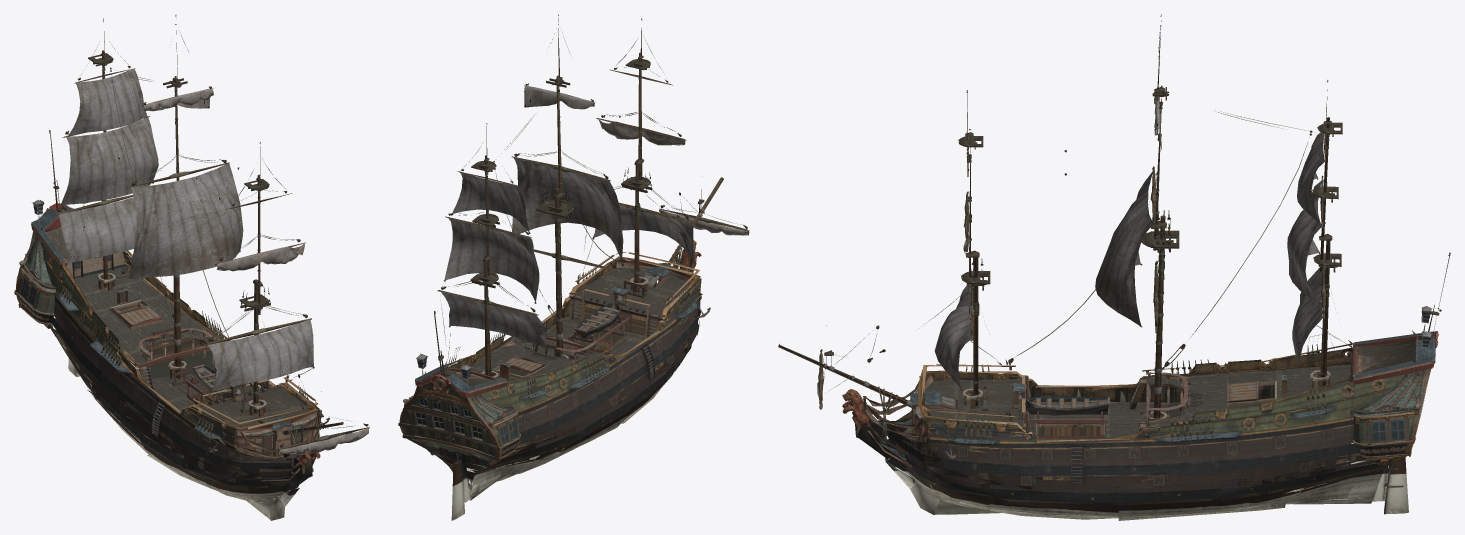
File: ship_pinnace.glb
The picture shows the model from 3 angles, left to right: view 1: azimuth 30°, elevation 25°; view 2: azimuth 150°, elevation 25°; view 3: azimuth 270°, elevation 25°; orthographic projection. The views are drawn at different scales.
Visible parts, largest first — view 1: ship_pinnace_sails, ship_pinnace_hull, ship_pinnace_deck, ship_pinnace_rigging, ship_pinnace_interior, ship_pinnace_details, ship_pinnace_aft; view 2: ship_pinnace_hull, ship_pinnace_sails, ship_pinnace_rigging, ship_pinnace_deck, ship_pinnace_aft, ship_pinnace_details, ship_pinnace_interior; view 3: ship_pinnace_hull, ship_pinnace_deck, ship_pinnace_rigging, ship_pinnace_sails, ship_pinnace_interior, ship_pinnace_aft, ship_pinnace_details.
Boxes of the visible parts, left/top/right/bottom form: ship_pinnace_sails: left=58, top=68, right=368, bottom=455; ship_pinnace_hull: left=41, top=242, right=321, bottom=520; ship_pinnace_deck: left=45, top=208, right=319, bottom=462; ship_pinnace_rigging: left=41, top=15, right=369, bottom=466; ship_pinnace_interior: left=20, top=235, right=319, bottom=488; ship_pinnace_details: left=31, top=200, right=320, bottom=474; ship_pinnace_aft: left=14, top=203, right=73, bottom=328; ship_pinnace_hull: left=414, top=249, right=702, bottom=520; ship_pinnace_sails: left=441, top=85, right=748, bottom=349; ship_pinnace_rigging: left=424, top=14, right=749, bottom=400; ship_pinnace_deck: left=424, top=259, right=699, bottom=399; ship_pinnace_aft: left=398, top=364, right=521, bottom=468; ship_pinnace_details: left=416, top=240, right=701, bottom=388; ship_pinnace_interior: left=409, top=258, right=700, bottom=469; ship_pinnace_hull: left=854, top=343, right=1411, bottom=520; ship_pinnace_deck: left=901, top=334, right=1434, bottom=459; ship_pinnace_rigging: left=778, top=14, right=1450, bottom=458; ship_pinnace_sails: left=817, top=96, right=1324, bottom=409; ship_pinnace_interior: left=893, top=348, right=1421, bottom=507; ship_pinnace_aft: left=1352, top=331, right=1438, bottom=466; ship_pinnace_details: left=842, top=306, right=1432, bottom=483.
Bounding box in the file's own units: 9.53 × 32.55 × 39.74.
Materials: 7 (7 with a texture image).
